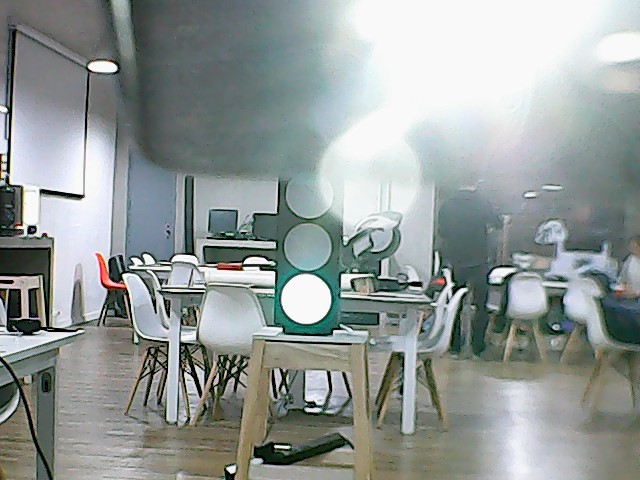verde: (272, 164, 347, 338)
